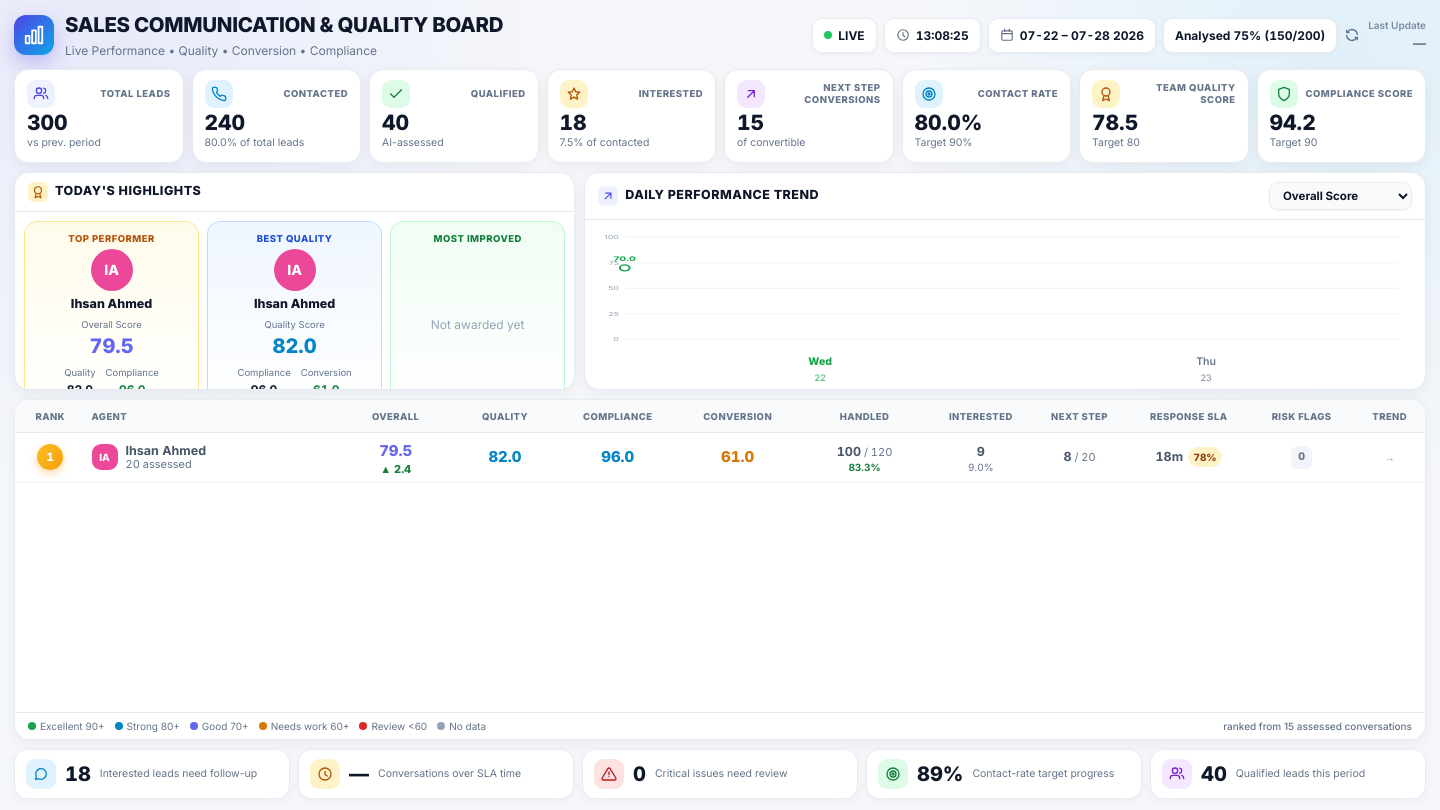
Test: drill-down: both halves of one number › offers both sides and flips between them without reopening
Click the element with class "click" that starts with "Interested leads need follow-up": (152, 774) [14,749,290,799]
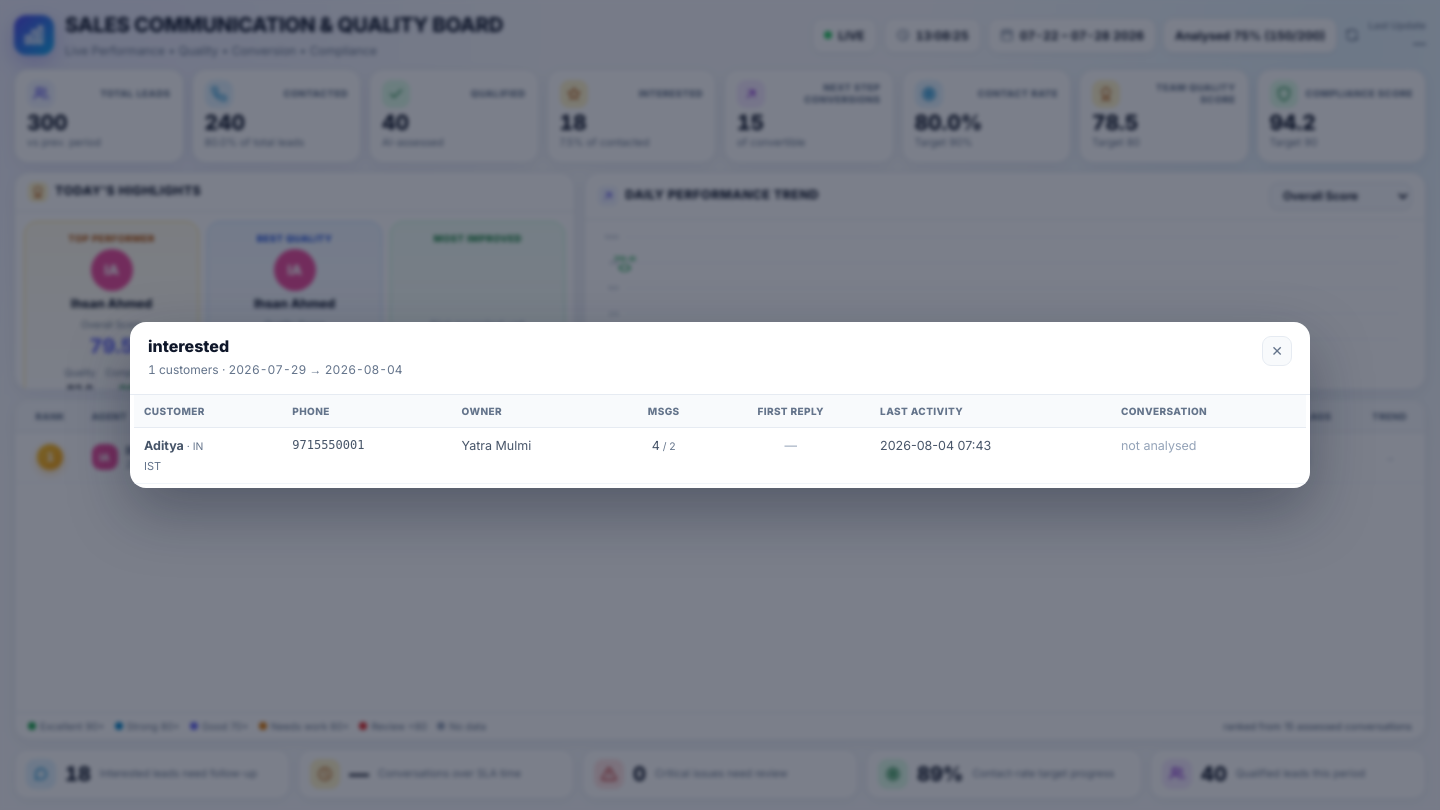
expect the row that starts with "Aditya" is shown: met, box [134,427,1306,484]
